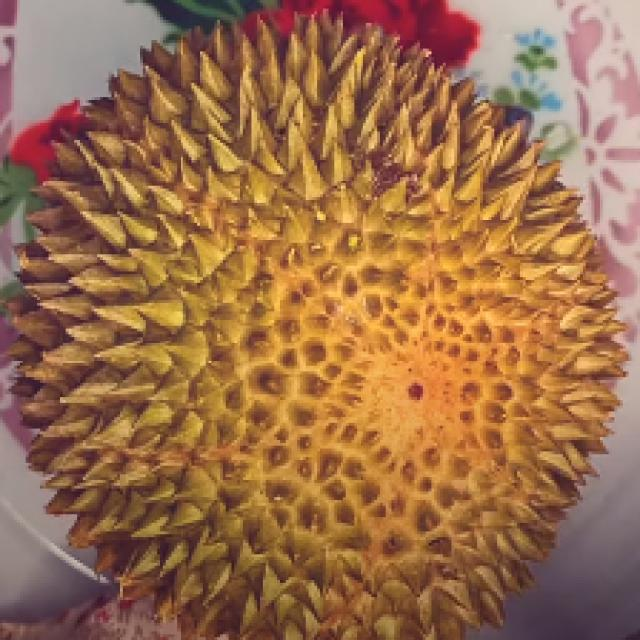d197: (5, 8, 637, 640)
